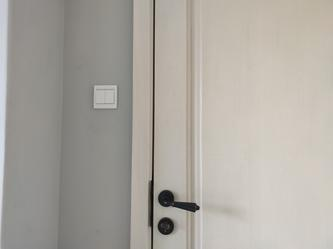switch: (96, 89, 104, 103), (106, 91, 115, 103)
